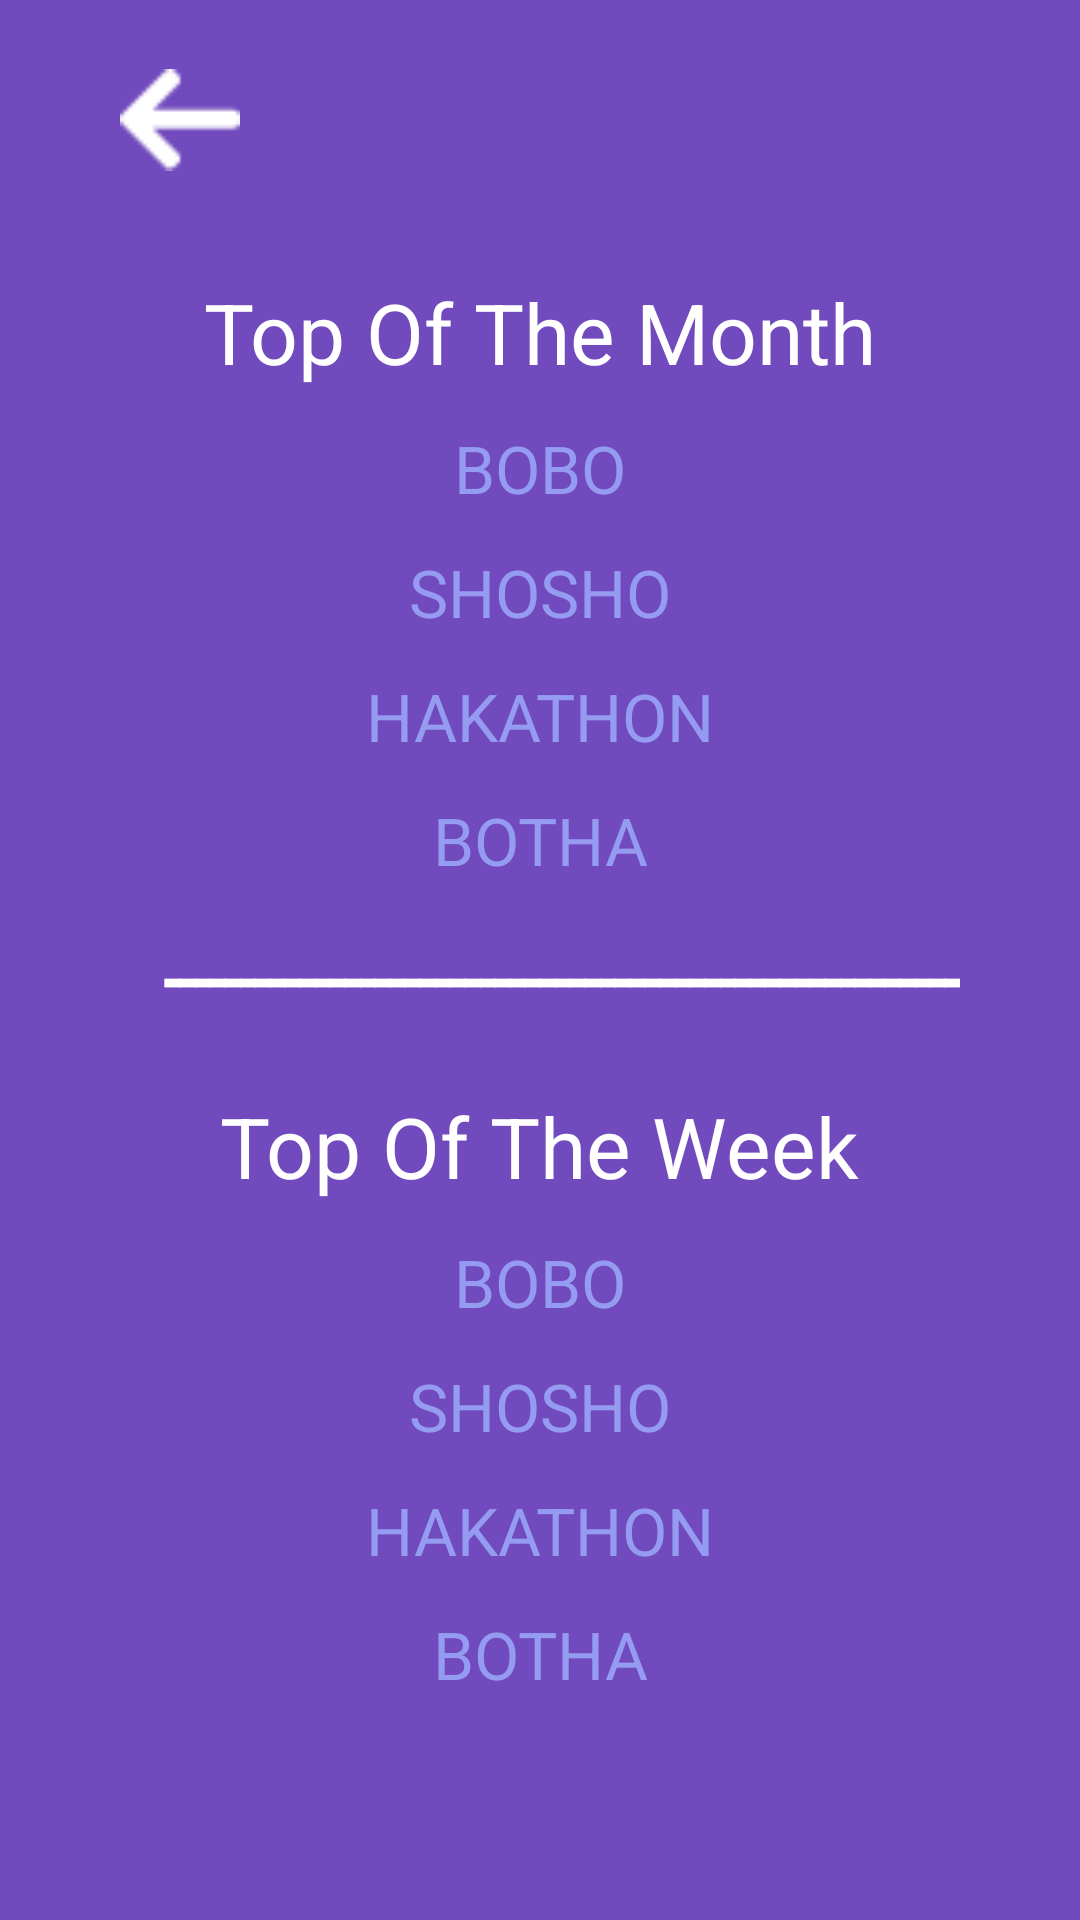

Screen size 1080*1920. Icon name, then its center in pixels as [x,y]:
back: [180,120]
